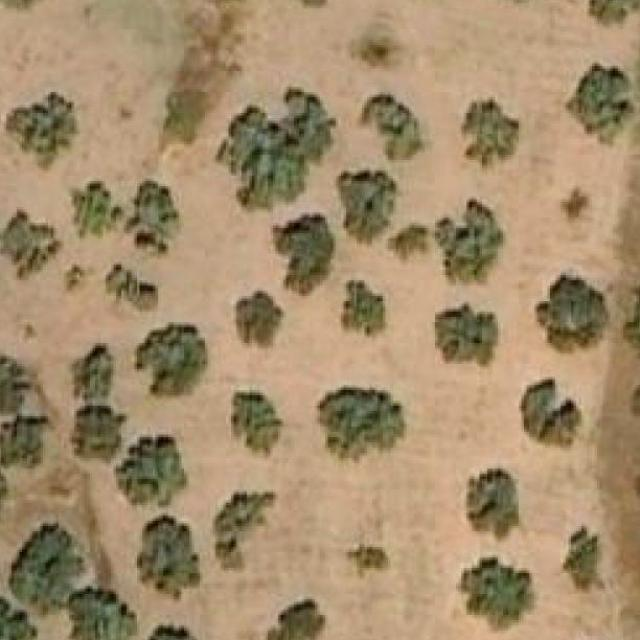Tree: (215, 89, 336, 212), (317, 387, 406, 458), (435, 200, 506, 288), (3, 92, 80, 170), (8, 523, 82, 604), (137, 514, 205, 602), (531, 278, 610, 352), (134, 325, 207, 402), (273, 210, 334, 297), (113, 437, 186, 508), (461, 558, 532, 628), (1, 205, 64, 283), (212, 493, 275, 571), (432, 301, 498, 372), (466, 466, 524, 543), (568, 63, 630, 134), (336, 170, 396, 242), (461, 100, 522, 170), (362, 92, 422, 163), (519, 377, 579, 448), (132, 181, 179, 257), (69, 181, 127, 241), (231, 393, 281, 461), (68, 589, 134, 640), (233, 289, 286, 351), (341, 278, 391, 341), (562, 523, 604, 594), (71, 406, 127, 458), (1, 564, 38, 640), (106, 264, 158, 314), (1, 416, 51, 466), (74, 346, 114, 404), (267, 599, 322, 640), (0, 353, 33, 405), (346, 545, 388, 579), (388, 228, 428, 262), (144, 625, 228, 640), (590, 0, 640, 24), (64, 265, 95, 296), (0, 457, 10, 510), (0, 0, 51, 8)
